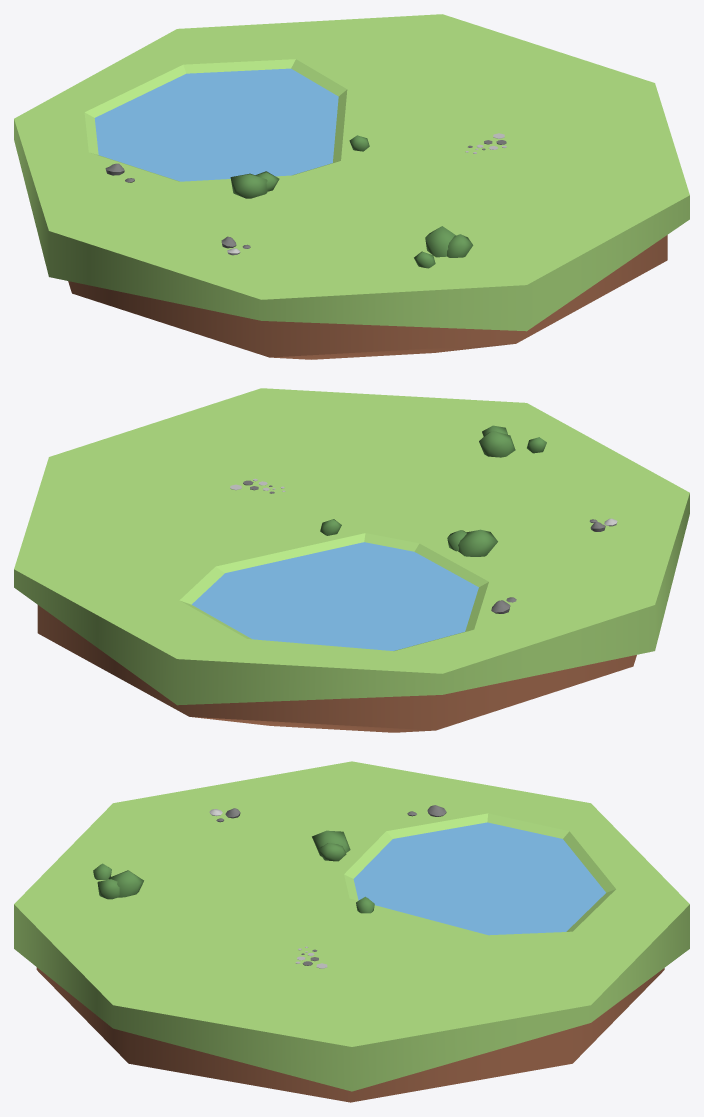
Rendered from ground3.gltf.
3 renders of one model, top to bottom at view 1: azimuth 30°, elevation 25°; view 2: azimuth 150°, elevation 25°; view 3: azimuth 270°, elevation 25°, orthographic. The views are drawn at different scales.
Visible parts, largest first — view 1: Cylinder002, Object_Material #13_0, Cylinder001, GeoSphere005, GeoSphere002; view 2: Cylinder002, Object_Material #13_0, Cylinder001, GeoSphere005, GeoSphere002; view 3: Cylinder002, Object_Material #13_0, Cylinder001, GeoSphere002.
Boxes of the visible parts, bbox=[...] form: Cylinder002: bbox=[14, 14, 689, 331]; Object_Material #13_0: bbox=[94, 68, 338, 181]; Cylinder001: bbox=[68, 235, 667, 359]; GeoSphere005: bbox=[230, 173, 267, 198]; GeoSphere002: bbox=[425, 226, 455, 257]; Cylinder002: bbox=[14, 388, 689, 705]; Object_Material #13_0: bbox=[192, 542, 478, 650]; Cylinder001: bbox=[37, 605, 636, 732]; GeoSphere005: bbox=[458, 529, 497, 556]; GeoSphere002: bbox=[479, 431, 515, 457]; Cylinder002: bbox=[14, 761, 689, 1091]; Object_Material #13_0: bbox=[353, 822, 605, 935]; Cylinder001: bbox=[36, 967, 664, 1102]; GeoSphere002: bbox=[108, 870, 143, 897].
Bounding box in the file's own units: 790 × 249 × 790.
